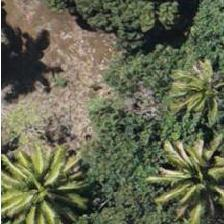Kelapa_Sawit: (137, 131, 224, 221), (0, 143, 89, 224), (169, 36, 224, 126)
